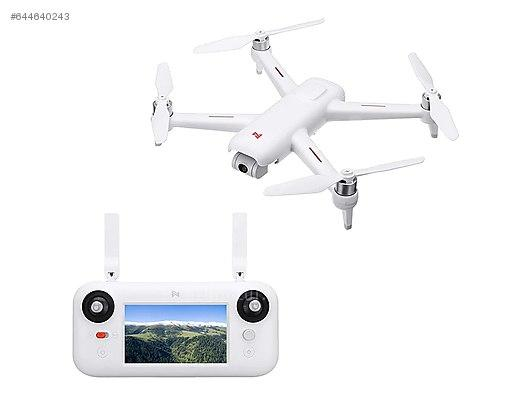drone: (123, 23, 473, 234)
